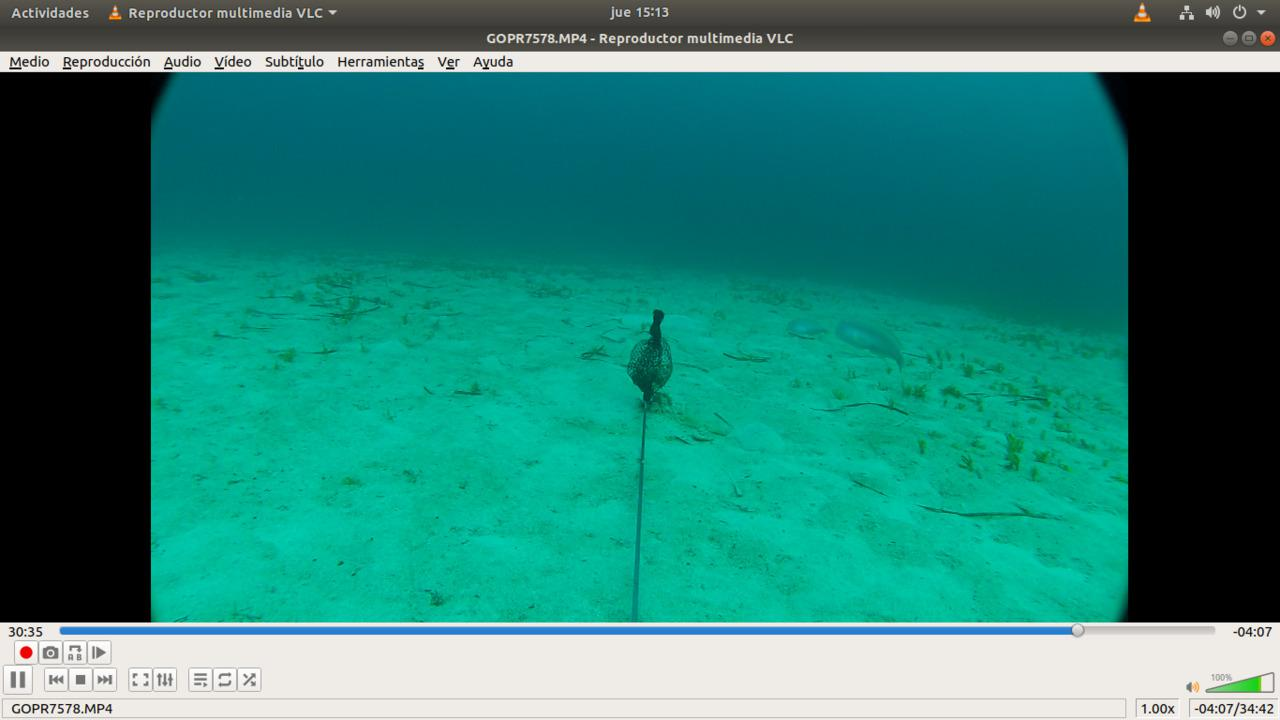raor: (833, 297, 912, 376), (778, 309, 829, 341)
